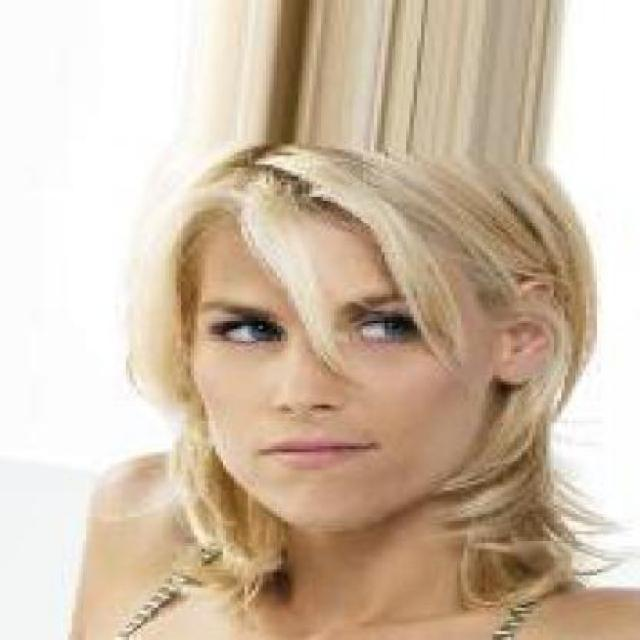closed-mouth: (253, 434, 373, 464)
